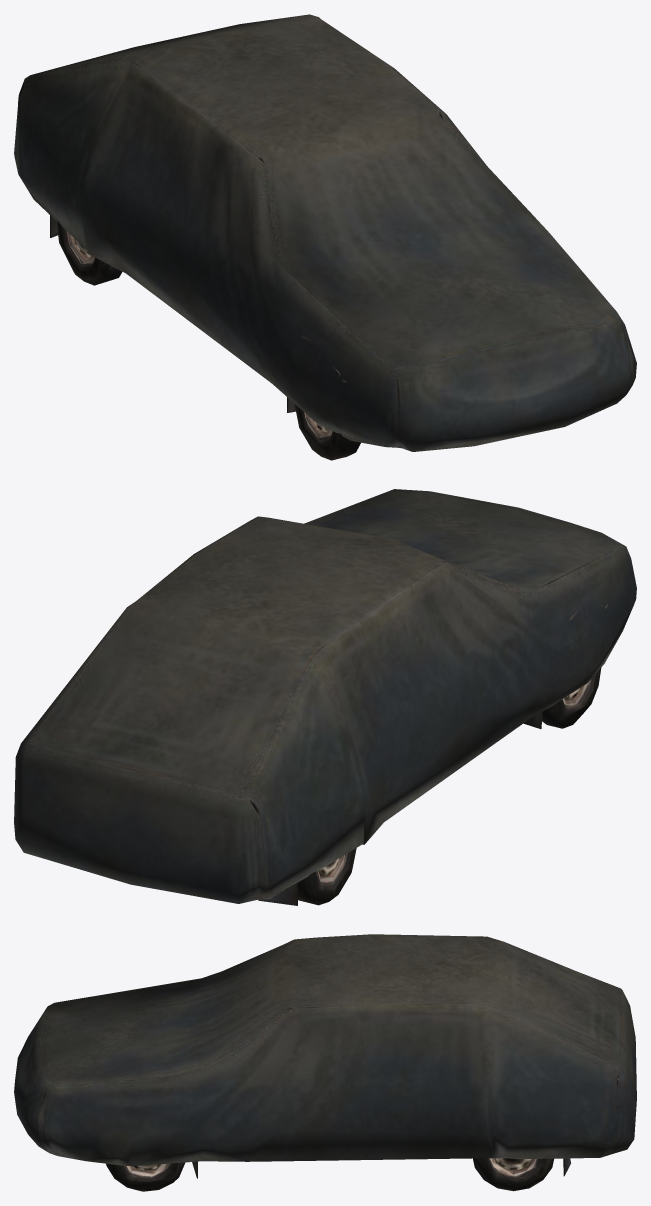
The model's file is covered_car.glb.
3 views of the same model, one above another, from view 1: azimuth 30°, elevation 25°; view 2: azimuth 150°, elevation 25°; view 3: azimuth 270°, elevation 25° (orthographic). The views are drawn at different scales.
Parts seen in each view (by area): view 1: covered_car_wheel_01; view 2: covered_car_wheel_01; view 3: covered_car_wheel_01.
Part boxes in pixels (x1,y1,x2,y2): covered_car_wheel_01: (14,14,636,460); covered_car_wheel_01: (14,489,636,905); covered_car_wheel_01: (14,934,636,1191).
Size of the model in its own units: 1.79 by 1.4 by 4.38.
Materials: 1 (1 with a texture image).
